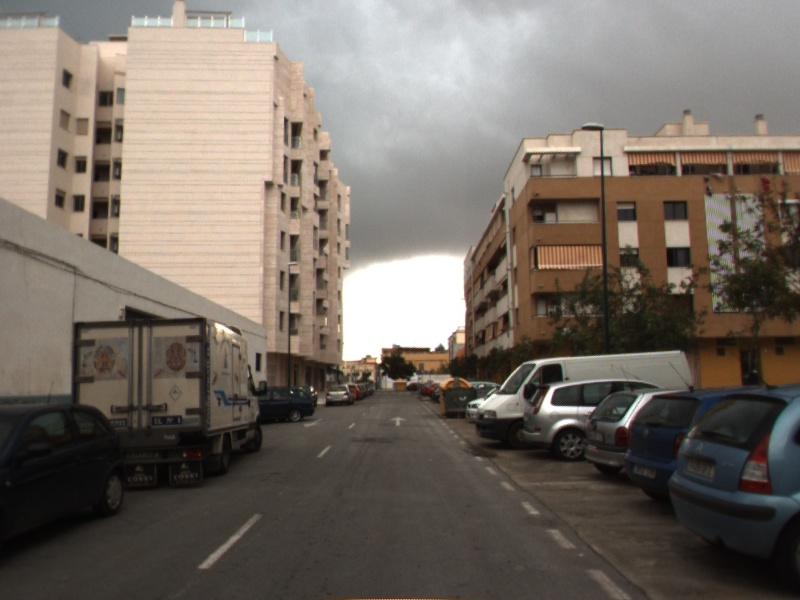STRAIGHT: (387, 414, 410, 428)
